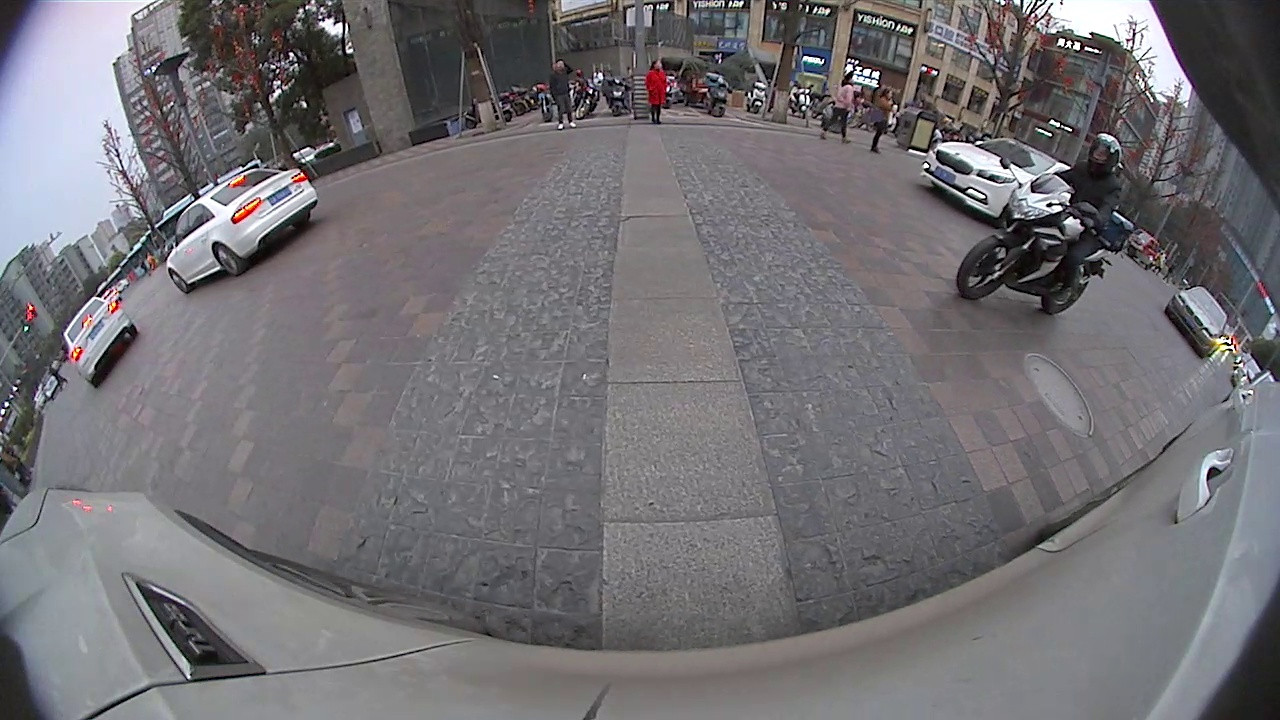car: (164, 166, 322, 297), (919, 133, 1075, 227), (60, 294, 139, 391), (1164, 282, 1229, 360)
front: (951, 232, 1023, 303), (166, 268, 192, 297)
person: (835, 71, 855, 143), (552, 56, 571, 127), (873, 85, 894, 148), (647, 59, 665, 123)
rear: (1038, 263, 1093, 320), (213, 243, 247, 278)
rider: (952, 133, 1139, 316)
